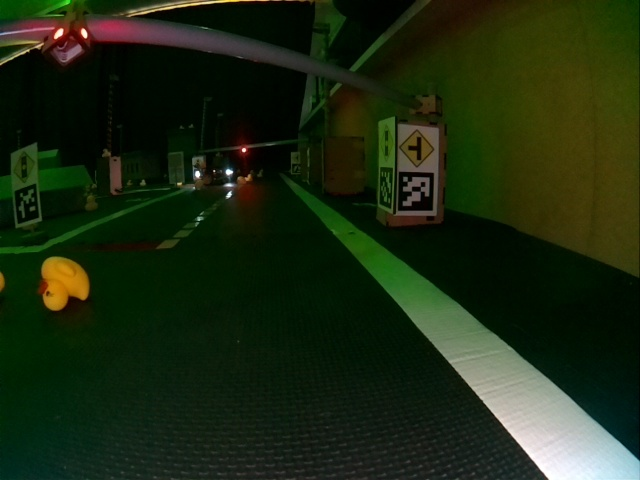Duckie: (41, 258, 90, 310), (86, 196, 97, 211), (101, 148, 109, 158)
Intersection sign: (400, 130, 436, 167)
QR code: (396, 171, 434, 215), (13, 185, 40, 227), (378, 169, 392, 211)
Traffic light: (43, 19, 90, 64), (239, 146, 246, 155)
